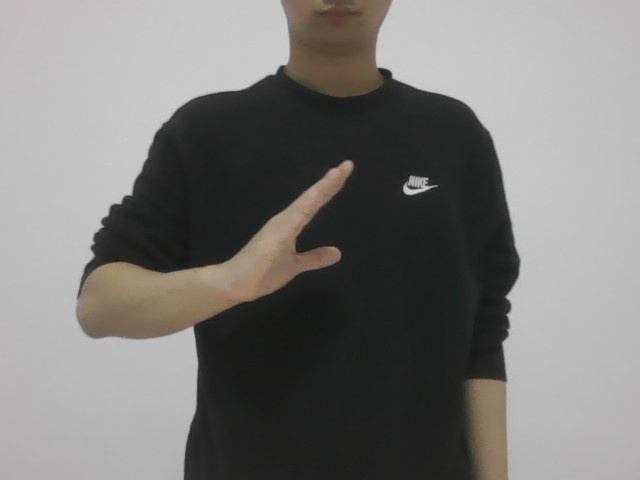morning: (236, 147, 361, 306)
